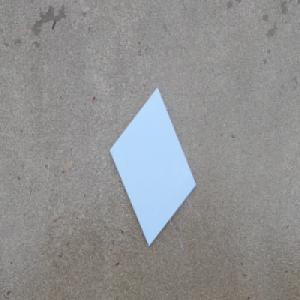PaintChip: (108, 85, 197, 248)
